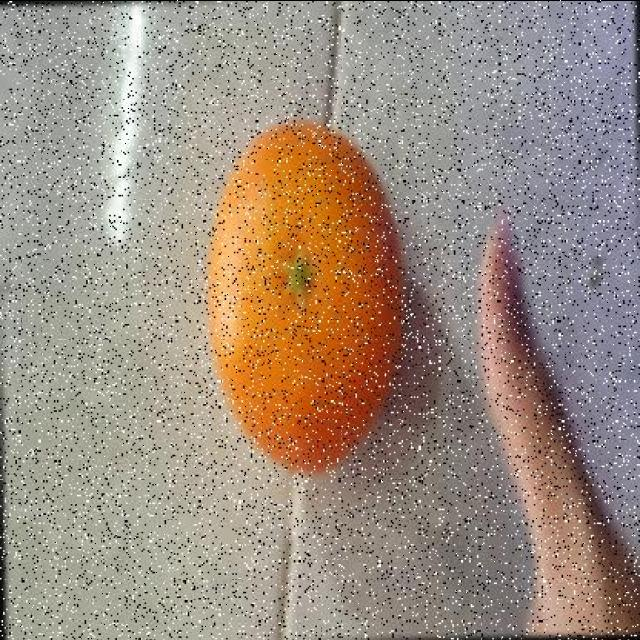Orange: (203, 118, 406, 476)
